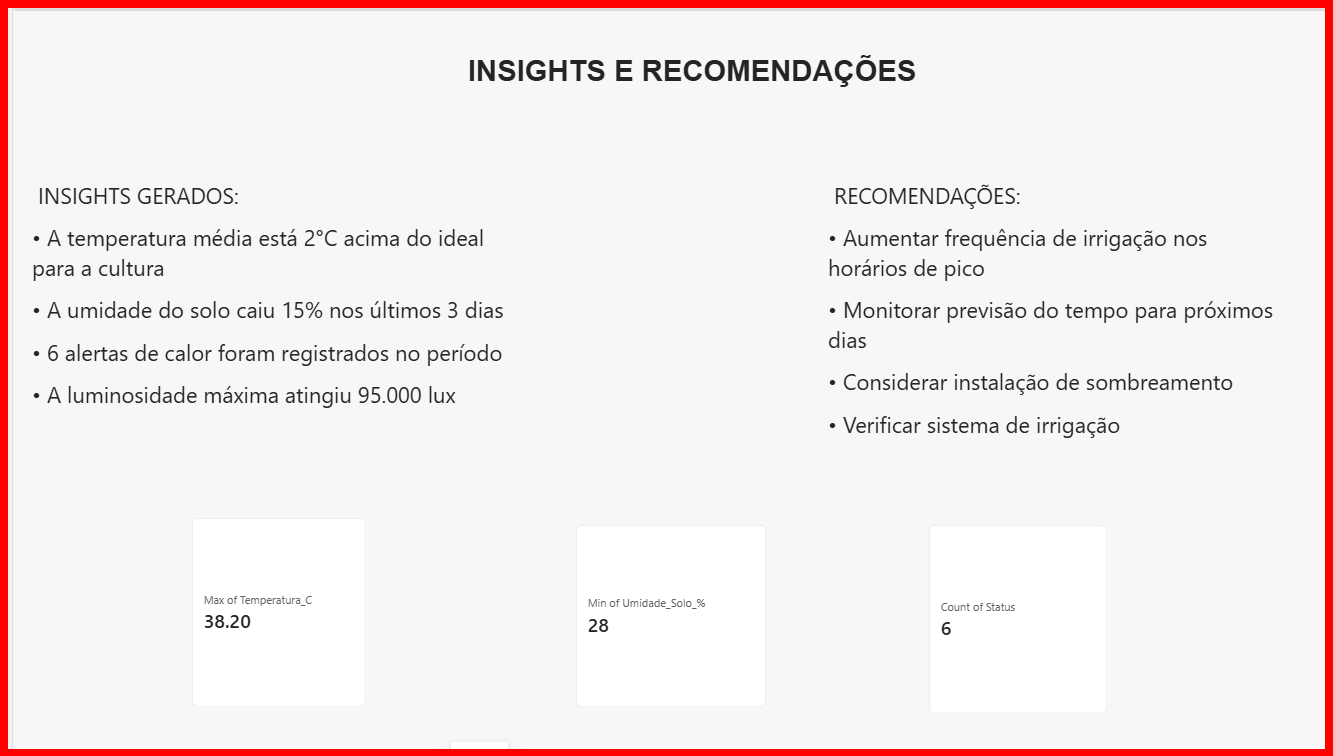

Layout of this report page (visuals, bound fields, positions):
{"tool":"powerbi","page":{"name":"insights","canvas":[1920,1080],"ordinal":3},"visuals":[{"type":"textbox","box":[663.8,62.7,869.5,280.1],"z":0},{"type":"textbox","box":[27.7,246.6,729.5,547.1],"z":1000},{"type":"textbox","box":[1189.1,246.6,677,547],"z":2000},{"type":"cardVisual","fields":{"Data":["Max(dados_agrosmart.Temperatura_C)"]},"box":[261.2,739.7,253.9,275.7],"z":3000},{"type":"cardVisual","fields":{"Data":["Min(dados_agrosmart.Umidade_Solo_%)"]},"box":[821.4,749.9,277.2,265.5],"z":4000},{"type":"cardVisual","fields":{"Data":["CountNonNull(dados_agrosmart.Status)"]},"box":[1336.4,749.9,259.7,275.7],"z":5000}]}

Visuals, with their boxes in screenshot pixels (x1, y1, x2, y2), scaled from the page's 1920x1080 canvas onto the 1333x756 screenshot:
textbox: 461:44:1065:240
textbox: 19:173:526:556
textbox: 826:173:1296:556
cardVisual - Max(dados_agrosmart.Temperatura_C): 181:518:358:711
cardVisual - Min(dados_agrosmart.Umidade_Solo_%): 570:525:763:711
cardVisual - CountNonNull(dados_agrosmart.Status): 928:525:1108:718
